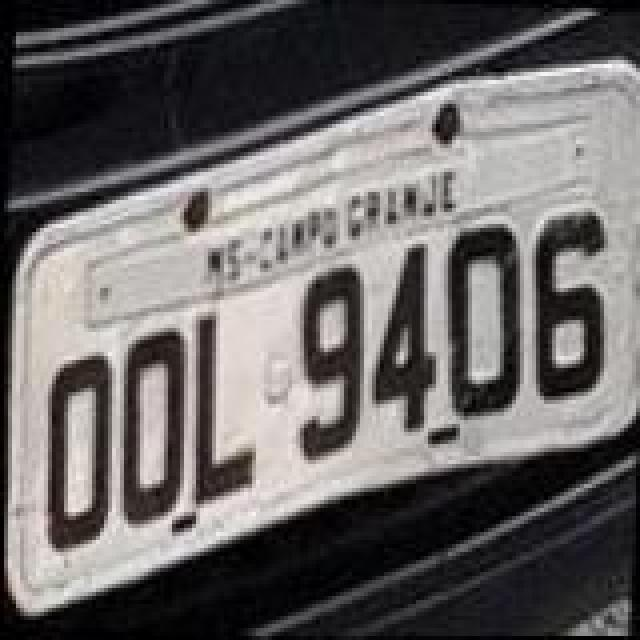4: (368, 240, 444, 436)
6: (524, 200, 616, 408)
9: (290, 260, 370, 464)
L: (188, 304, 264, 508)
O: (434, 218, 530, 418), (38, 344, 118, 552), (114, 324, 194, 532)
